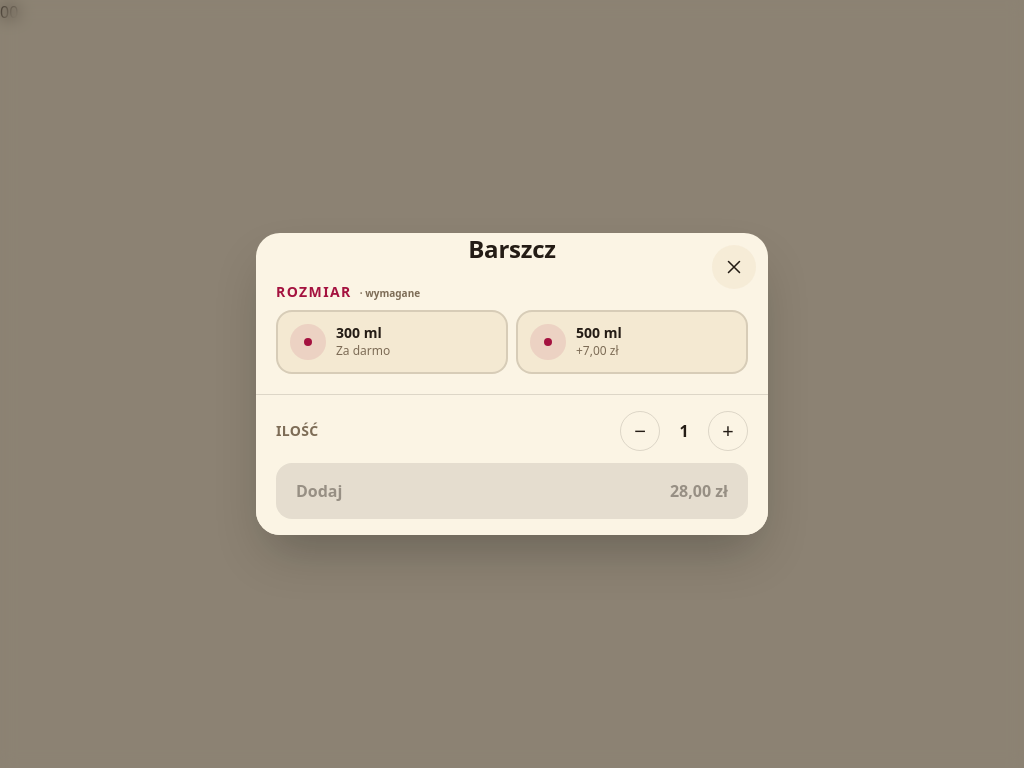
Test case: OptionSheet › requires a required group and adds a configured item at the right price
Expected: the button "Dodaj 28,00 zł" is disabled, [276,463,748,519]
Click the radio button labelled "500 ml +7,00 zł". click: [632, 342]
box: [516,310,748,374]
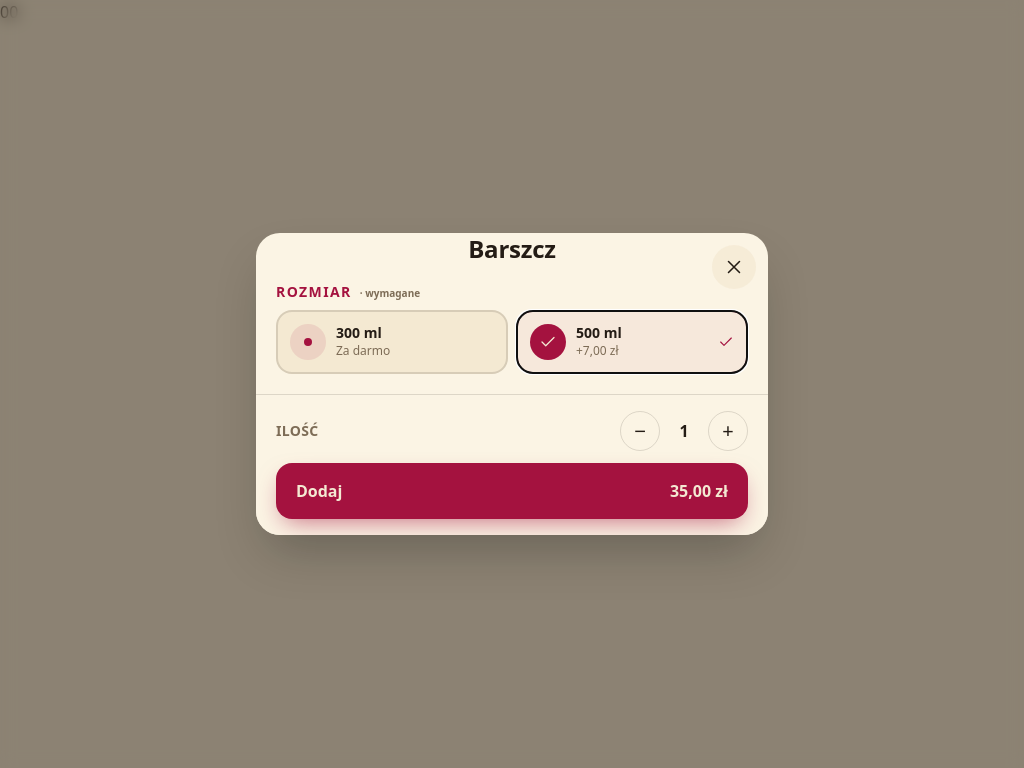
Now the button "Dodaj 35,00 zł" is enabled
Click the button "Dodaj 35,00 zł". click: [319, 491]
box: [276,463,748,519]
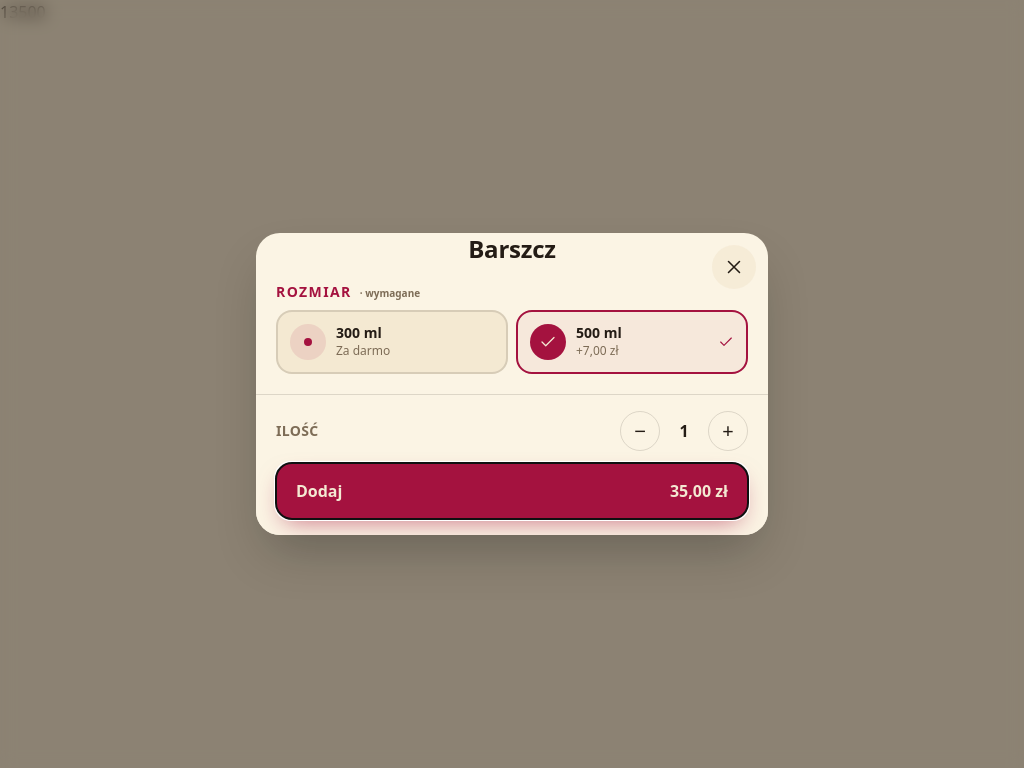
Now the text with test id "c" reads "1", box [0,1,9,23]
Now the text with test id "s" reads "3500", box [9,1,46,23]
